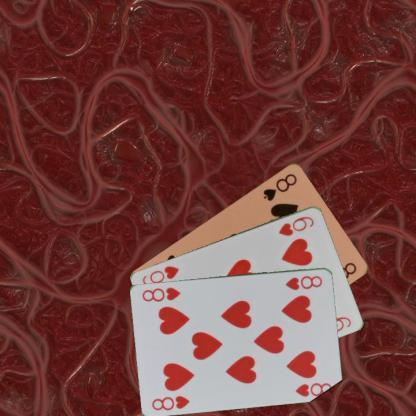6h: (276, 214, 316, 236)
8h: (150, 392, 192, 412), (283, 273, 324, 291)
8s: (260, 171, 299, 202)
